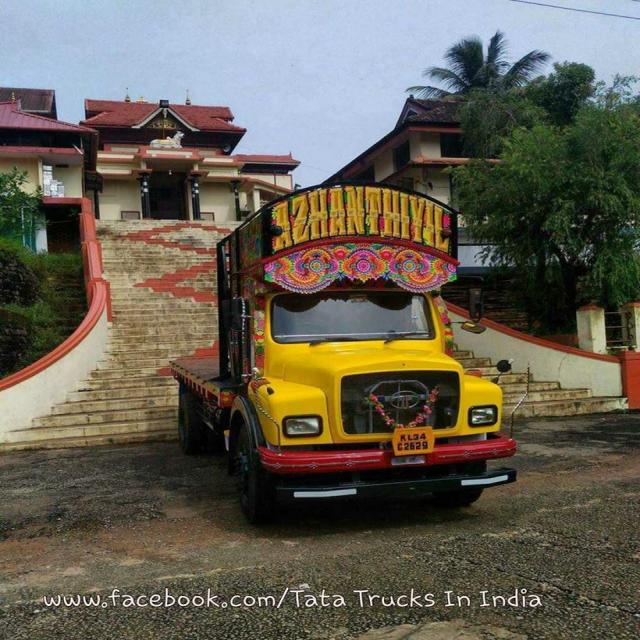truck: (155, 174, 538, 526)
